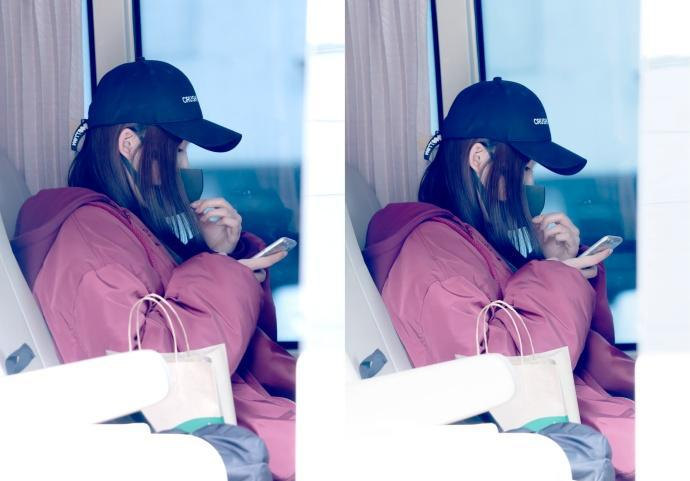WRONG: (462, 139, 547, 230), (118, 124, 205, 211)
